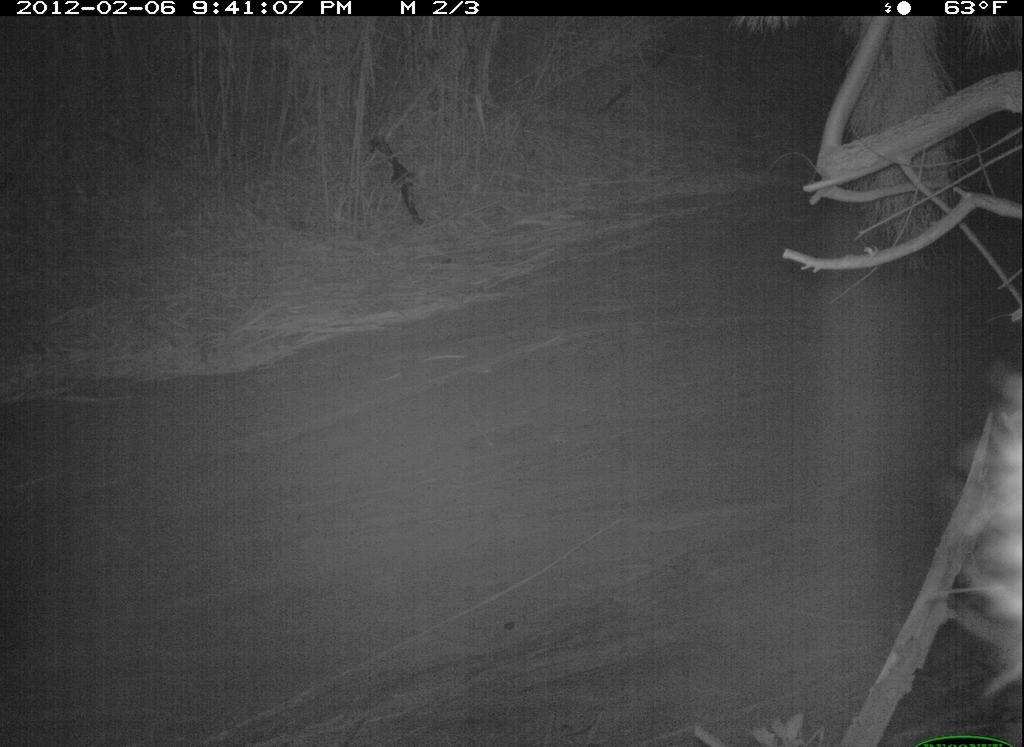raccoon: (947, 361, 1024, 669)
